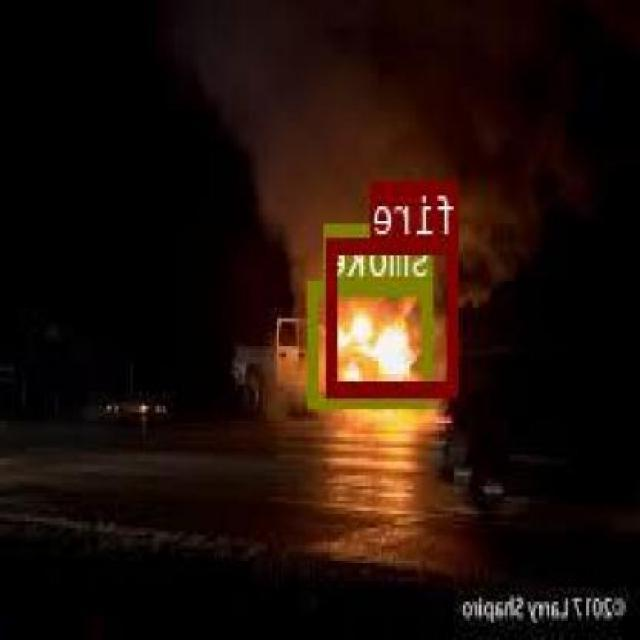Fire: (330, 236, 459, 392)
Smoke: (311, 278, 434, 406)
